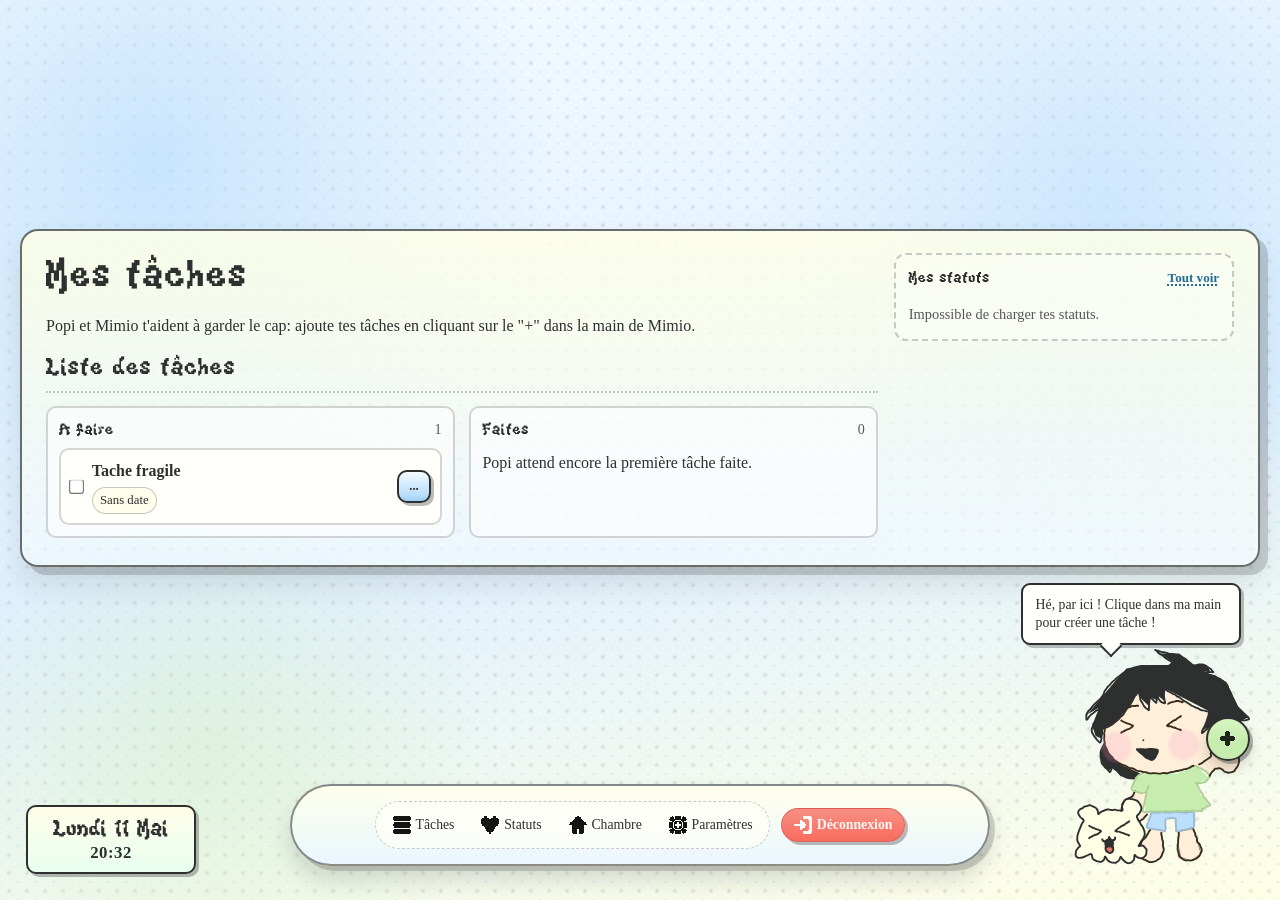
Test: TasksPage › shows error and keeps task visible when delete fails
Expected: the text "Tache fragile" is shown, 92,462 -> 180,479
Click the button named "Actions pour Tache fragile" at (414, 486), box 397,470 -> 431,503
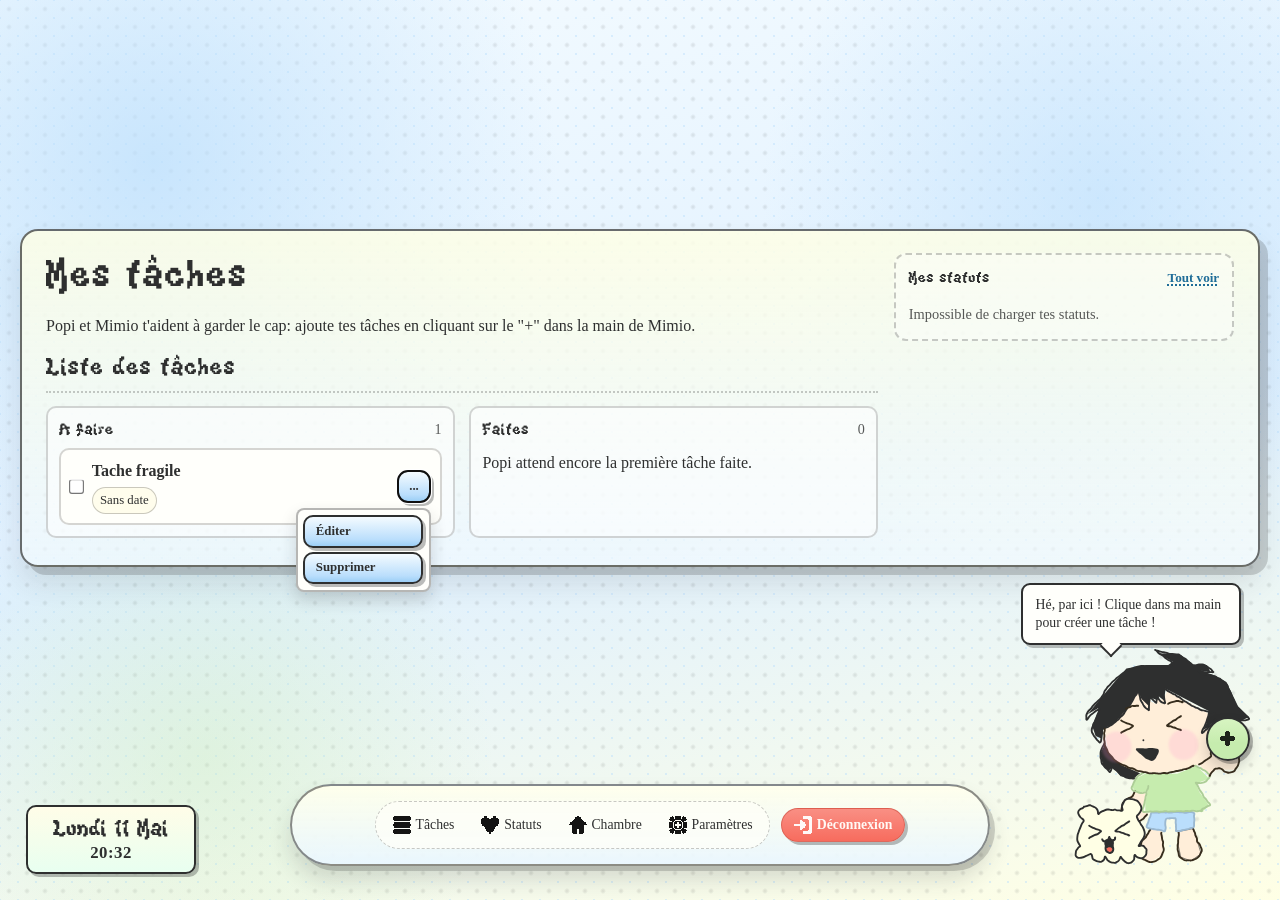
Click the menu item "Supprimer" at (363, 568), box 303,552 -> 423,584
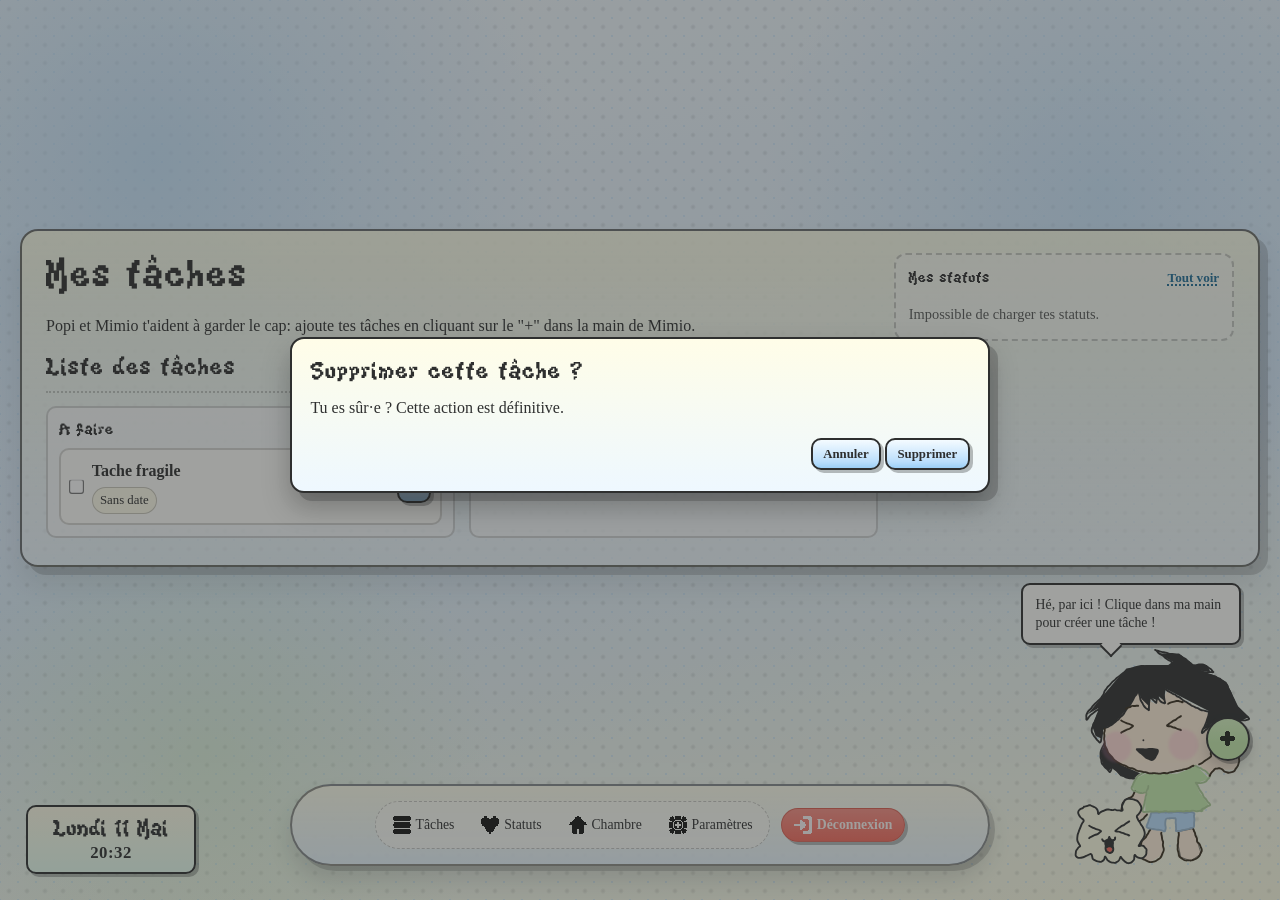
Click the button "Supprimer" at (927, 454), box 885,438 -> 970,470
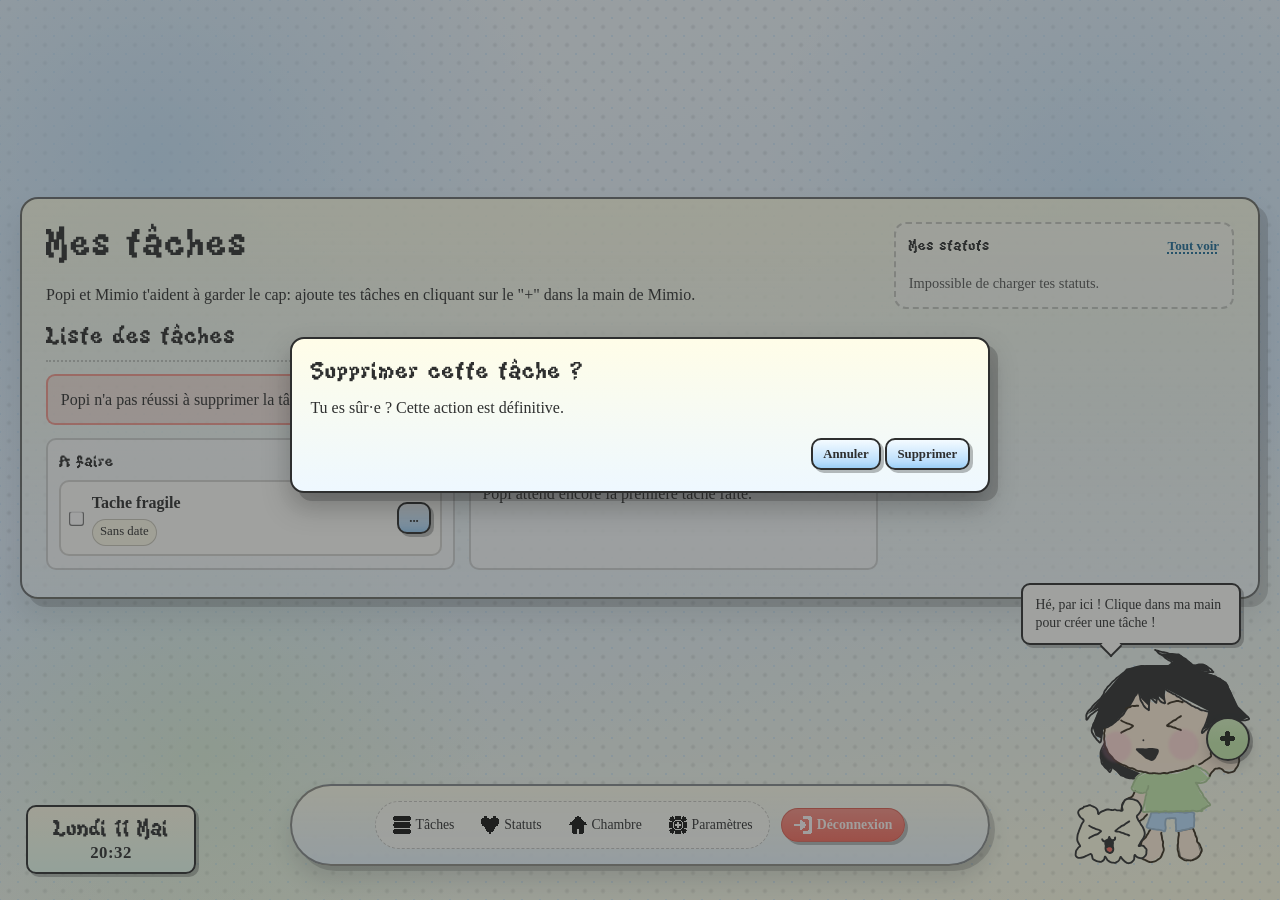
Expected: the text "Tache fragile" is shown, 92,494 -> 180,511
Result: the message reads "Popi n'a pas réussi à supprimer la tâche pour le moment. Réessaie." at 61,390 -> 485,408
